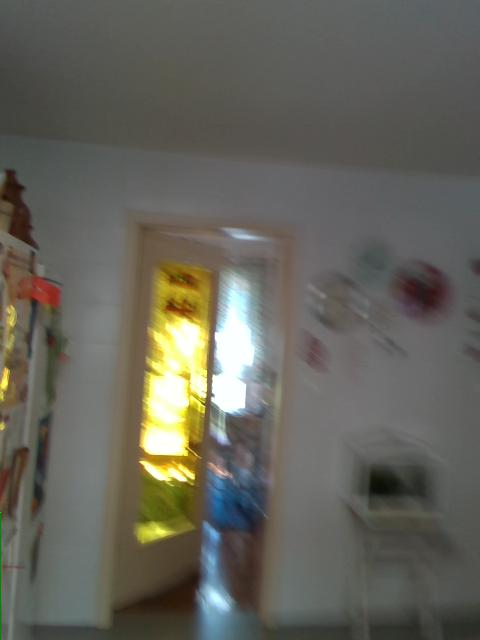semi_door: (99, 206, 297, 639)
